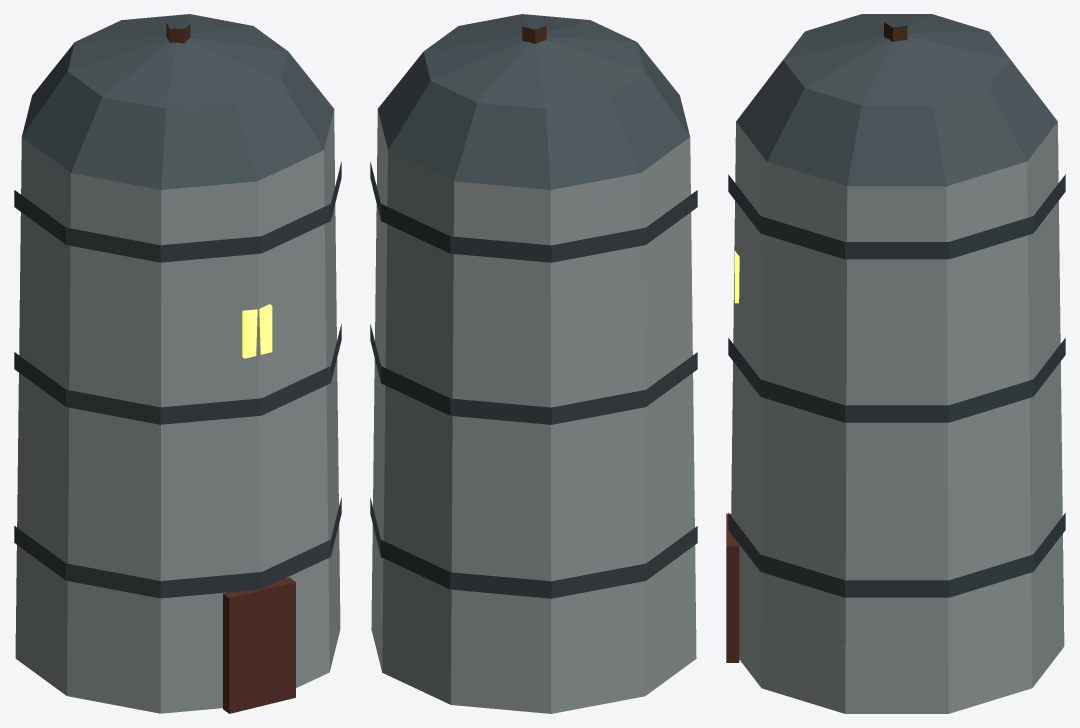
The model's file is prop_silo.glb.
3 renders of one model, left to right at view 1: azimuth 30°, elevation 25°; view 2: azimuth 150°, elevation 25°; view 3: azimuth 270°, elevation 25°, orthographic.
Parts seen in each view (by area): view 1: prop_silo; view 2: prop_silo; view 3: prop_silo.
Boxes of the visible parts, bbox=[...] form: prop_silo: bbox=[14, 14, 341, 713]; prop_silo: bbox=[370, 14, 697, 713]; prop_silo: bbox=[726, 14, 1065, 713].
Bounding box in the file's own units: 0.4984 × 1.07 × 0.527.
